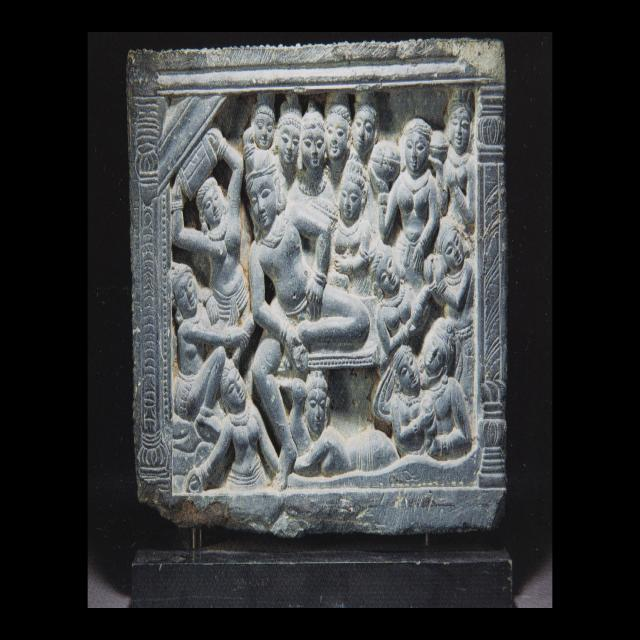buddha-sitting: (244, 129, 370, 485)
